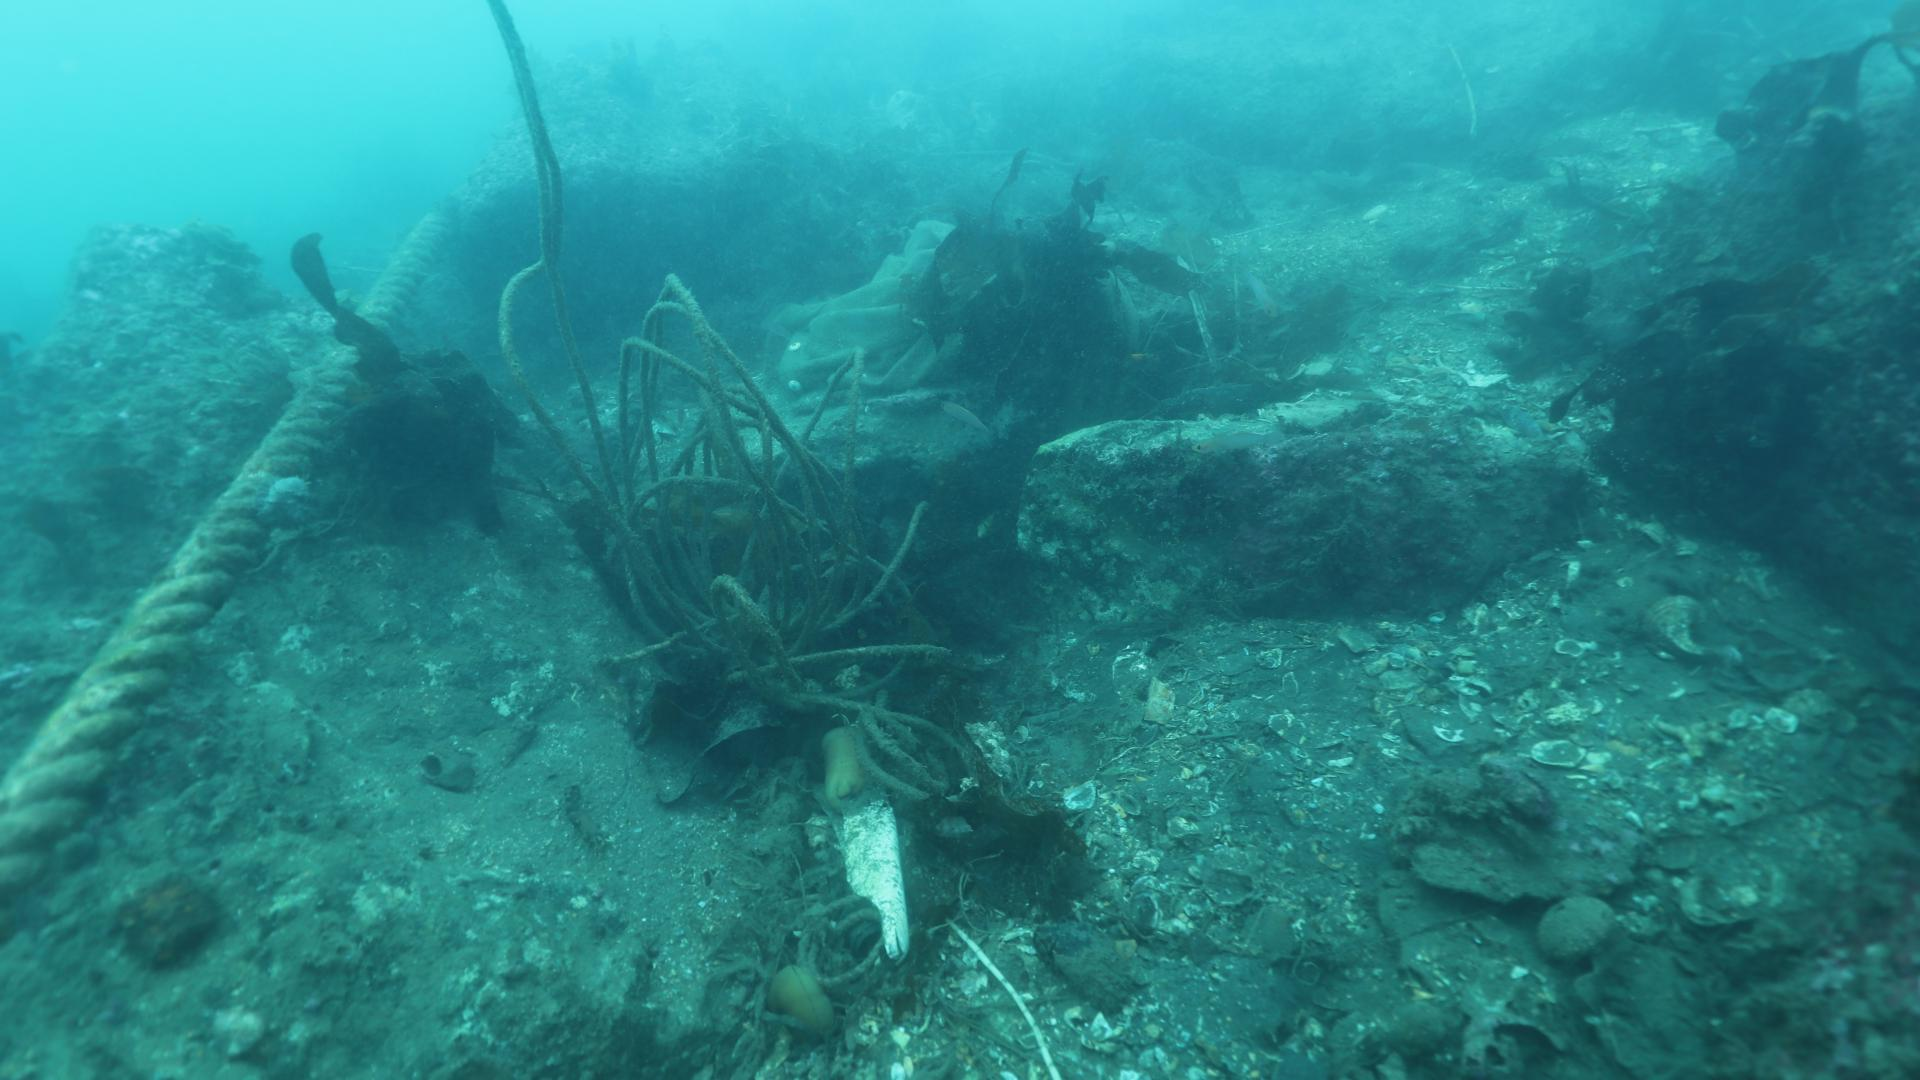rope: (0, 178, 459, 913)
